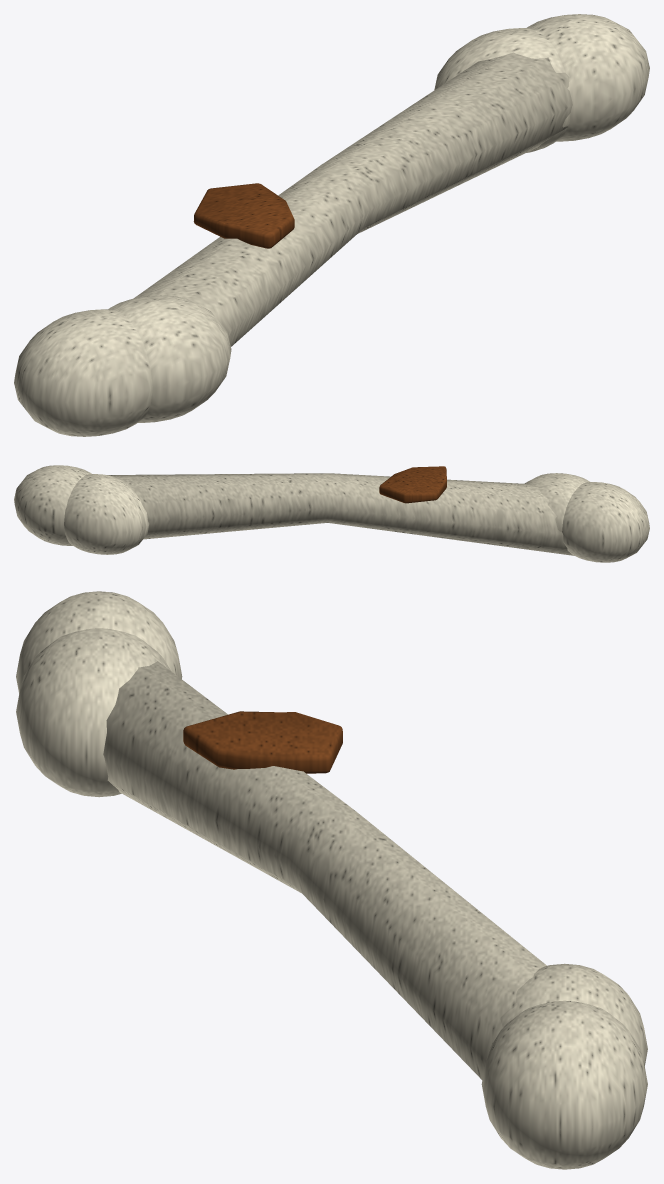
The model's file is food-12-half.glb.
3 views of the same model, one above another, from view 1: azimuth 30°, elevation 25°; view 2: azimuth 150°, elevation 25°; view 3: azimuth 270°, elevation 25° (orthographic). The views are drawn at different scales.
Visible parts, largest first — view 1: Food; view 2: Food; view 3: Food.
Part boxes in pixels (bbox=[...]): Food: bbox=[14, 14, 649, 436]; Food: bbox=[14, 465, 649, 562]; Food: bbox=[16, 591, 647, 1169].
Size of the model in its own units: 0.71 by 0.1016 by 0.38.
1 material, 1 textured.
